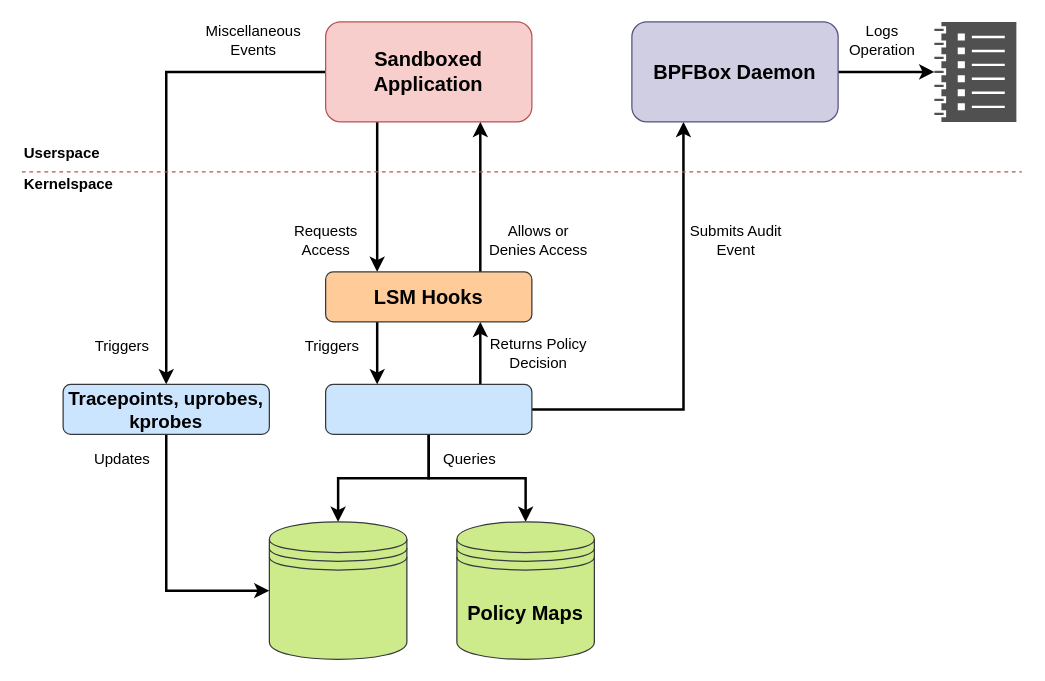
This 1045x681 diagram has some shape labels left out. Here are the shapes that lost their labels. From the top down, the box of each, then its label:
(324, 383, 532, 434): LSM Probes
(268, 521, 407, 659): Process State Maps
